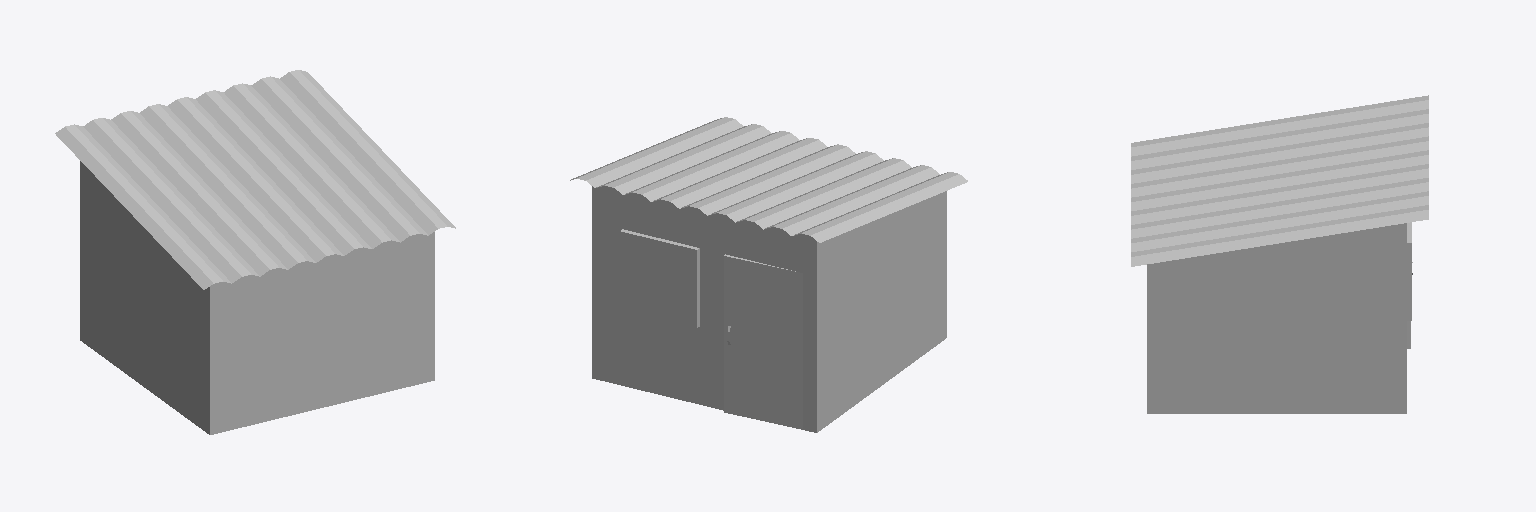
File: slum.obj
The picture shows the model from 3 angles: view 1: azimuth 30°, elevation 25°; view 2: azimuth 150°, elevation 25°; view 3: azimuth 270°, elevation 25°; orthographic projection.
Visible parts, largest first — view 1: building; view 2: building; view 3: building.
Part boxes in pixels (x1,y1,x2,y2): building: (55,70,455,434); building: (570,117,967,432); building: (1131,95,1428,413).
Size of the model in its own units: 3.38 by 2.64 by 3.46.